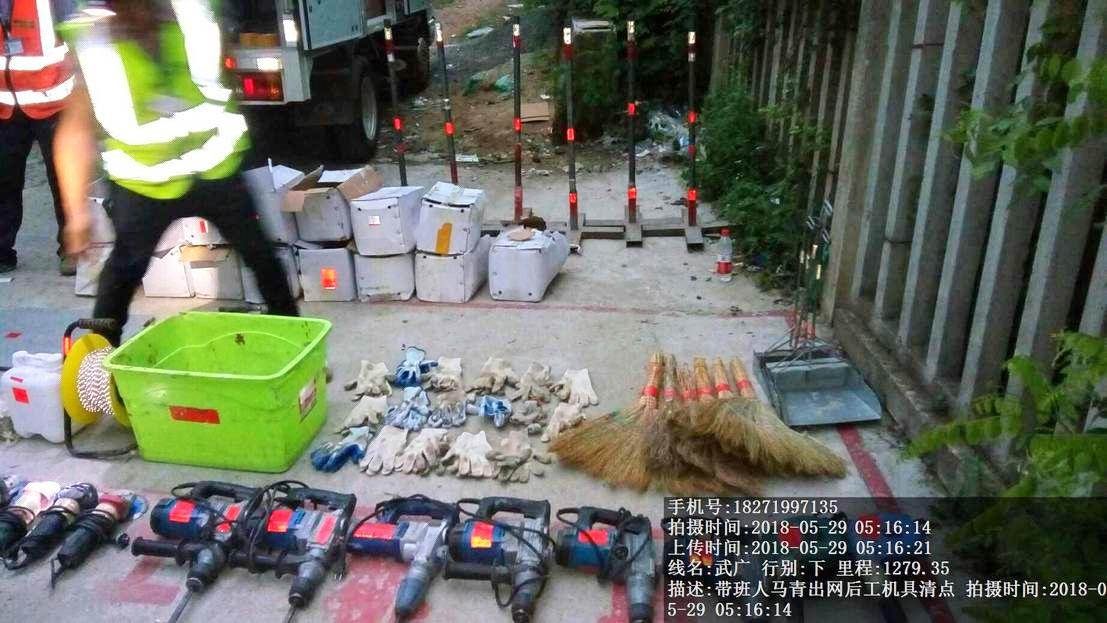DMJ: (57, 500, 136, 577)
DZ: (128, 484, 266, 608), (553, 498, 662, 623), (355, 500, 463, 623), (459, 492, 560, 612), (251, 496, 351, 610)
SB: (726, 356, 844, 476), (567, 344, 654, 477)
T: (109, 312, 331, 474)
